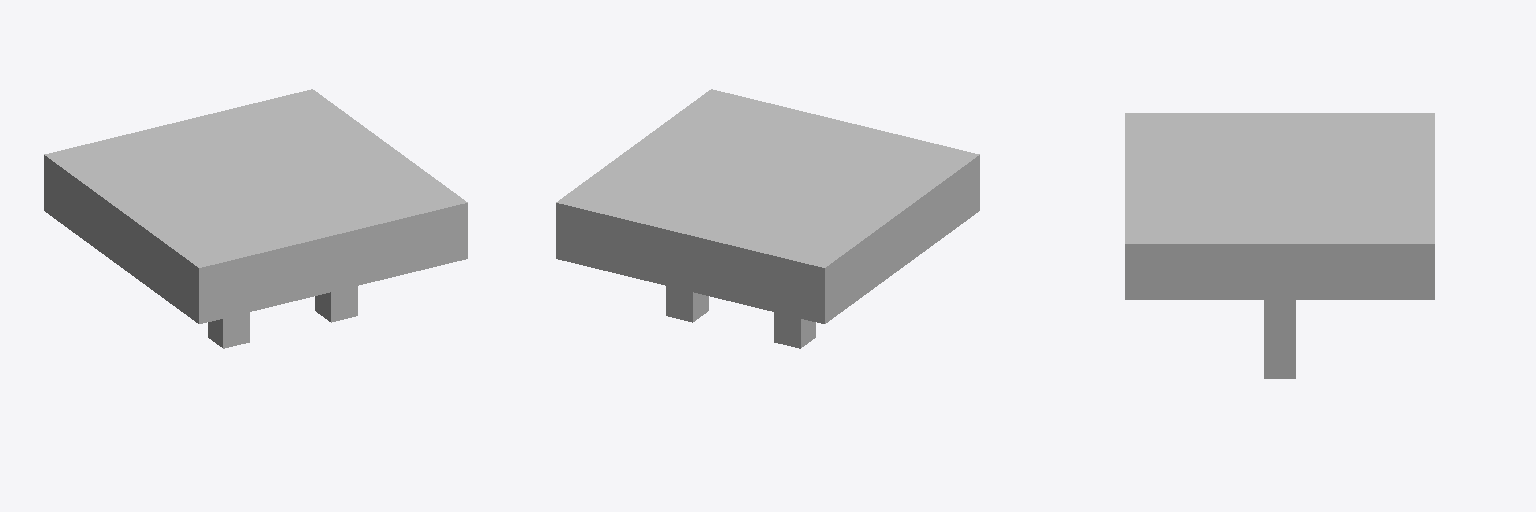
Rendered from repeateroff-2.obj.
3 views of the same model, side by side, from view 1: azimuth 30°, elevation 25°; view 2: azimuth 150°, elevation 25°; view 3: azimuth 270°, elevation 25° (orthographic).
Parts seen in each view (by area): view 1: Cube.001, Cube.005, Cube.004; view 2: Cube.001, Cube.005, Cube.004; view 3: Cube.001, Cube.003, Cube.005.
Part boxes in pixels (left/top/right/bottom): Cube.001: left=44, top=89, right=467, bottom=323; Cube.005: left=315, top=288, right=357, bottom=322; Cube.004: left=208, top=314, right=249, bottom=348; Cube.001: left=556, top=89, right=979, bottom=323; Cube.005: left=666, top=288, right=708, bottom=322; Cube.004: left=774, top=314, right=815, bottom=348; Cube.001: left=1125, top=113, right=1434, bottom=299; Cube.003: left=1264, top=300, right=1295, bottom=350; Cube.005: left=1264, top=351, right=1295, bottom=378.
Bounding box in the file's own units: 1 × 0.55 × 1.